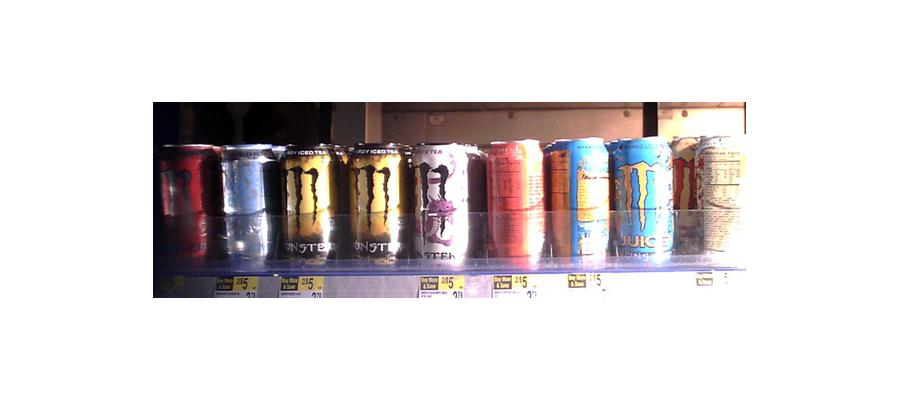bottle: (411, 143, 478, 267), (611, 135, 675, 263), (155, 140, 218, 270), (547, 136, 608, 266), (342, 142, 405, 264), (484, 138, 541, 266), (683, 131, 741, 256), (221, 143, 277, 271), (280, 144, 337, 265)
